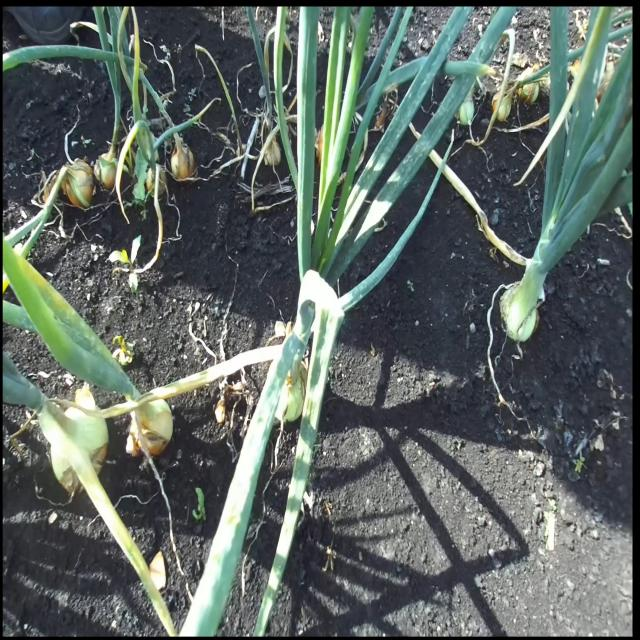onion: (38, 398, 109, 498), (126, 395, 174, 459), (498, 280, 538, 343), (274, 360, 308, 424), (60, 158, 95, 210), (170, 134, 196, 182), (93, 146, 119, 191)
